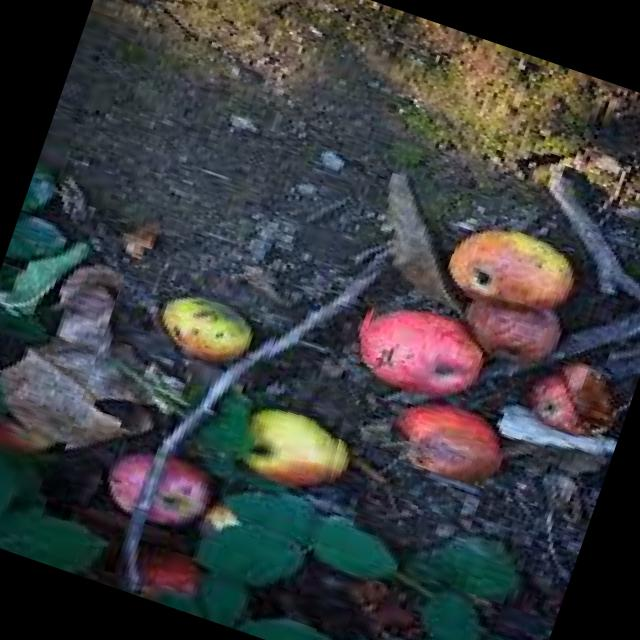Organic: (325, 146, 640, 523), (26, 235, 296, 612), (211, 358, 364, 532)
